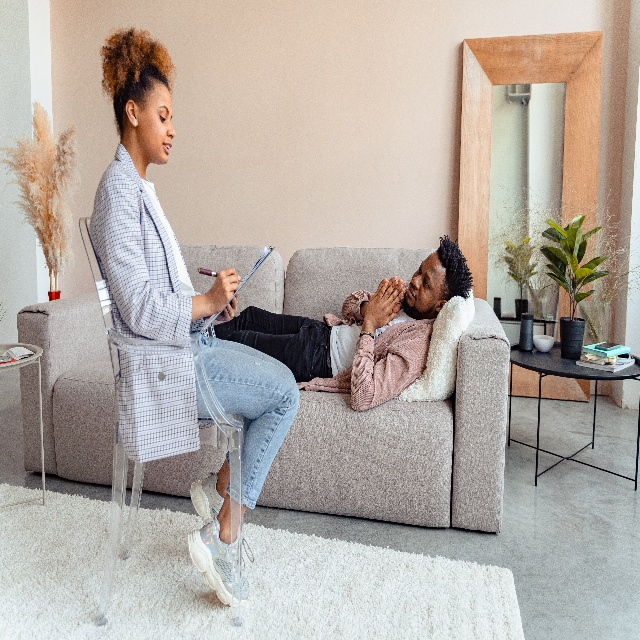Sin_guantes: (206, 266, 241, 314), (367, 281, 402, 329), (215, 292, 238, 322)
